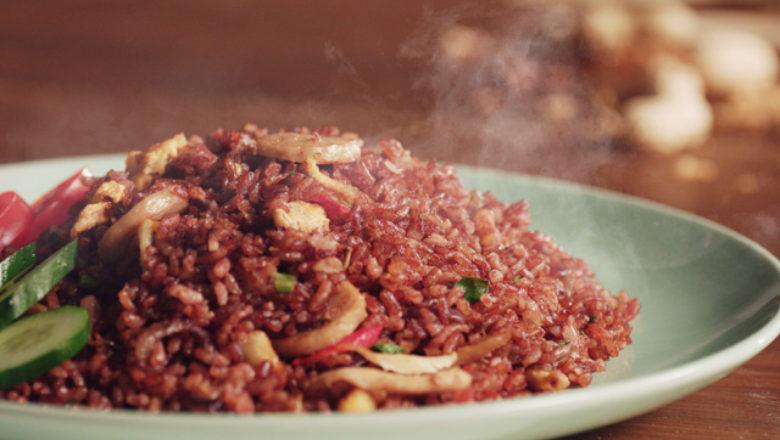Nasi Merah: (68, 98, 617, 440)
